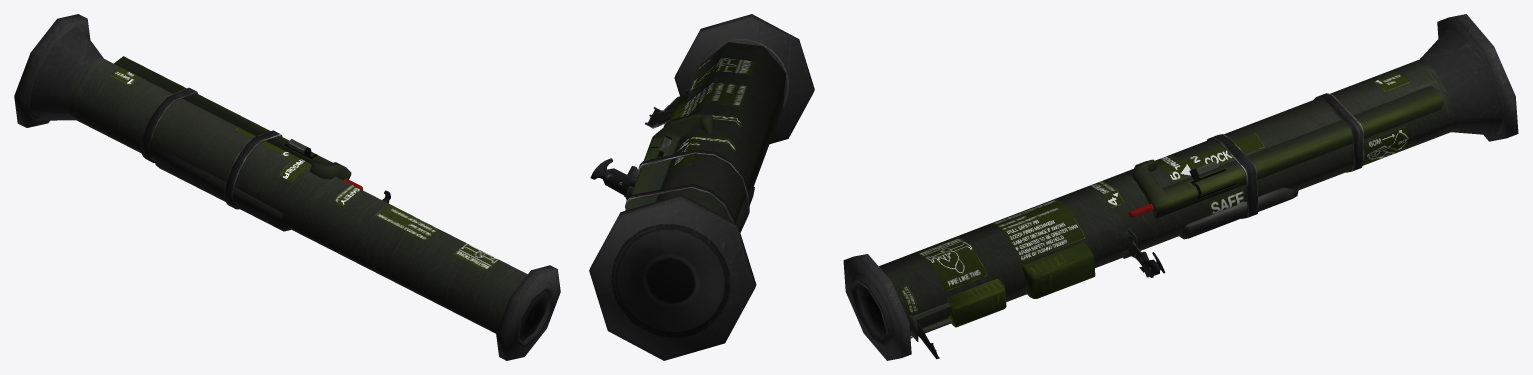
The model's file is rocket.obj.
3 renders of one model, left to right at view 1: azimuth 30°, elevation 25°; view 2: azimuth 150°, elevation 25°; view 3: azimuth 270°, elevation 25°, orthographic. The views are drawn at different scales.
Visible parts, largest first — view 1: rl_Cube.007; view 2: rl_Cube.007; view 3: rl_Cube.007.
Part boxes in pixels (x1,y1,x2,y2): rl_Cube.007: (14, 14, 560, 360); rl_Cube.007: (589, 14, 814, 360); rl_Cube.007: (843, 14, 1518, 360).
Size of the model in its own units: 4.36 by 2.74 by 7.28.
Materials: 1 (1 with a texture image).
